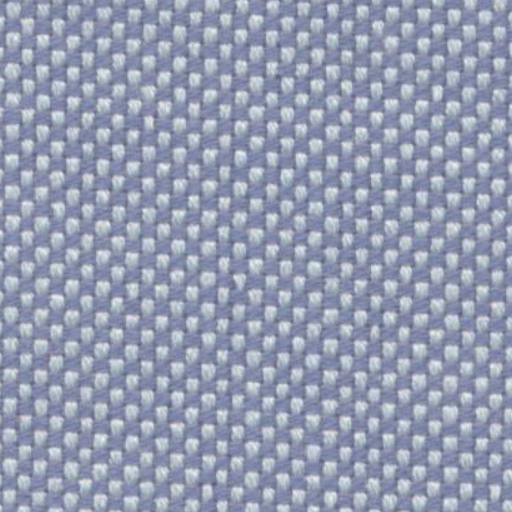TuoSha: (211, 13, 250, 500)
